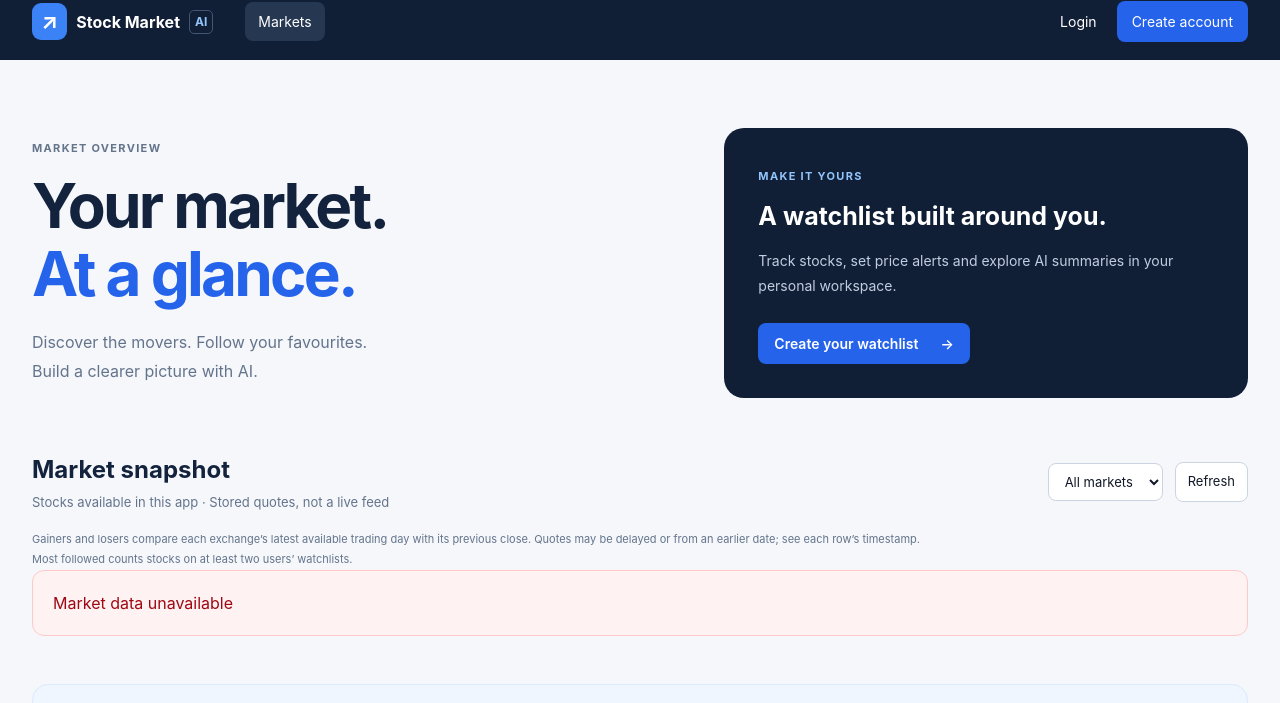
shows an error, then recovers when refreshed
Expected: the message reads "Market data unavailable", x1=53 y1=593 x2=233 y2=613
What coordinates should you click on to do the following:
click the button "Refresh"
I would click on:
 (1211, 482)
Its box is x1=1175 y1=462 x2=1248 y2=502.
(page scrolled)
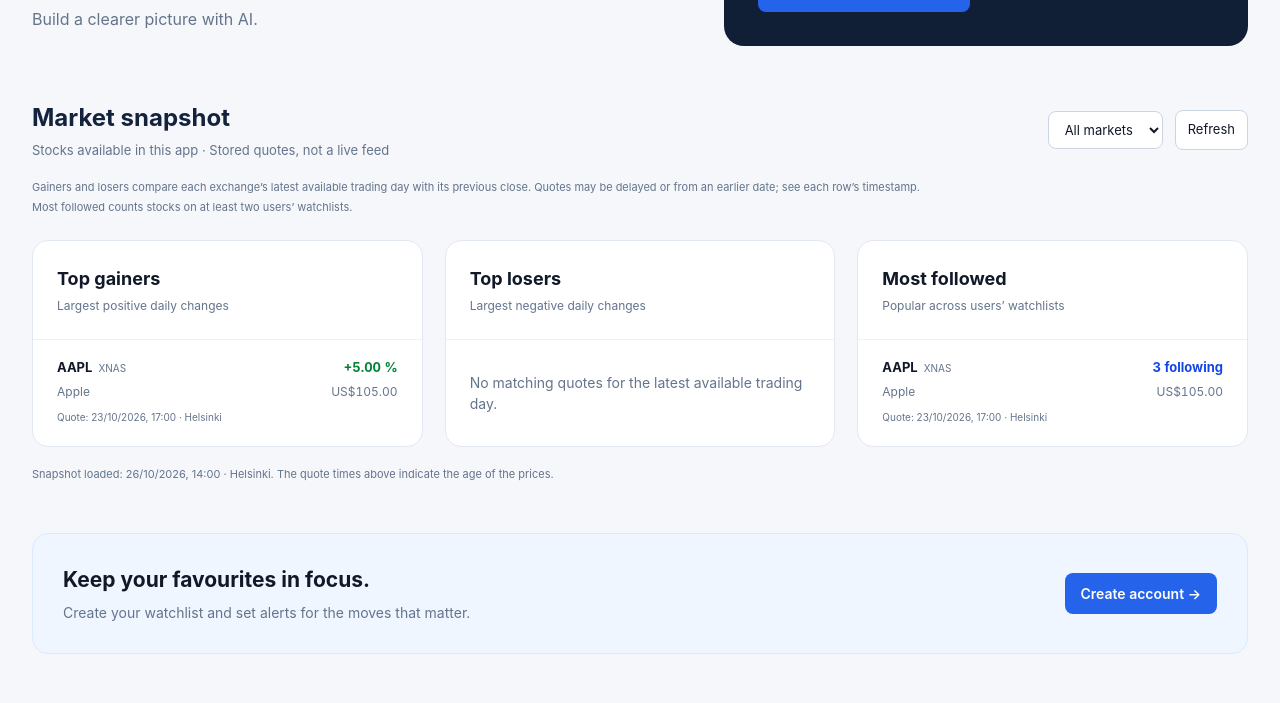
Now the element "Top gainers" is shown, box x1=32 y1=240 x2=423 y2=447
Now the message "Market data unavailable" is gone
